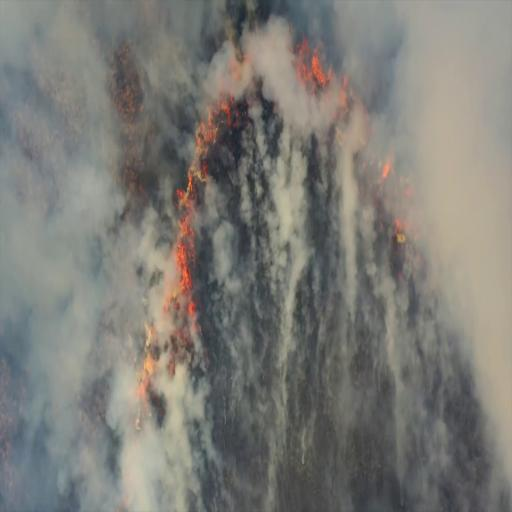fire: (168, 202, 197, 296), (298, 24, 333, 87)
smoke: (414, 6, 512, 252)
